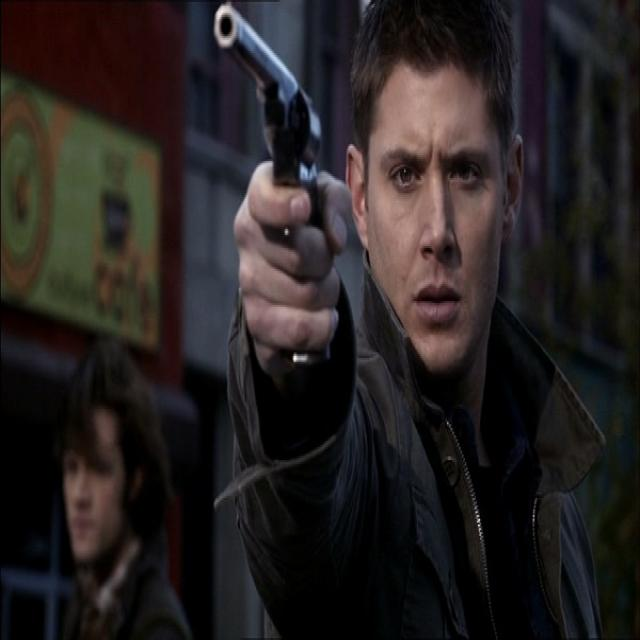weapons: (205, 0, 351, 332)
